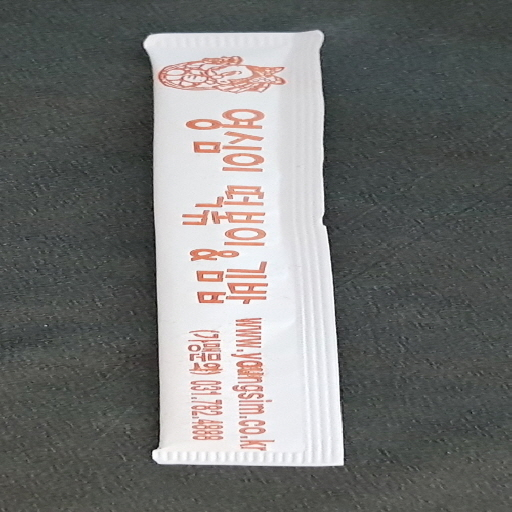Paper_2: (139, 29, 354, 469)
